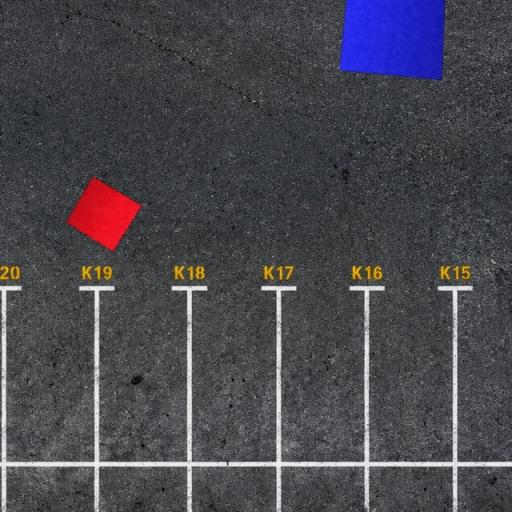BLUE_SQUARE: (338, 0, 446, 81)
RED_SQUARE: (66, 175, 142, 253)
